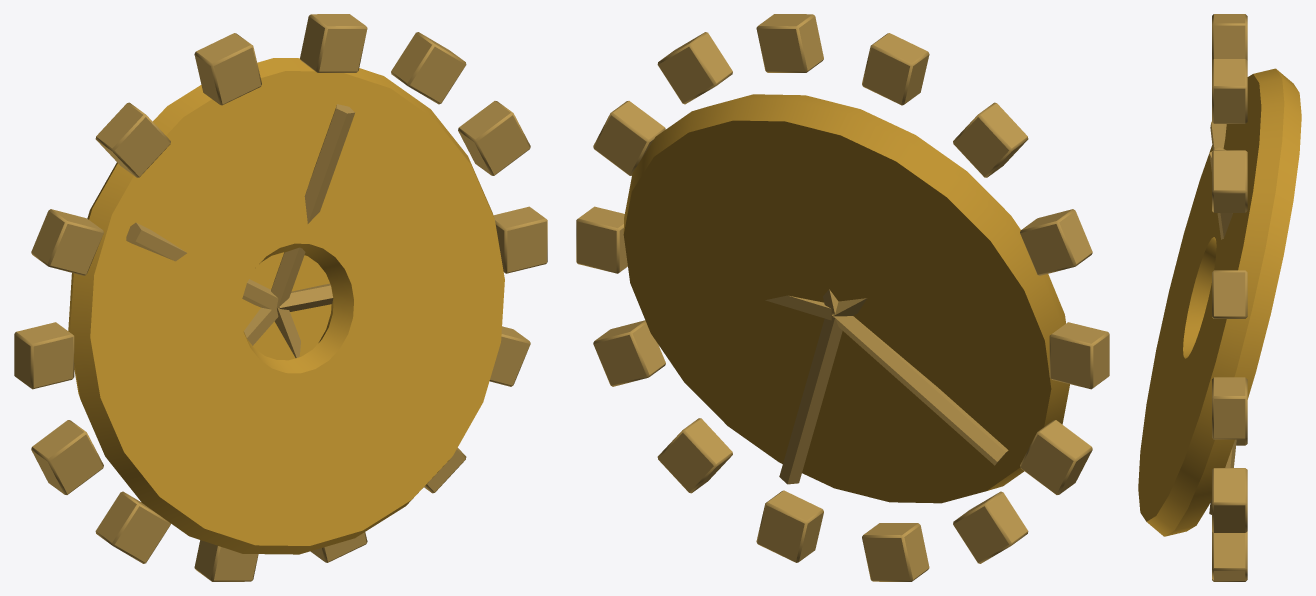
The model's file is clock_gear.glb.
3 views of the same model, side by side, from view 1: azimuth 30°, elevation 25°; view 2: azimuth 150°, elevation 25°; view 3: azimuth 270°, elevation 25° (orthographic). The views are drawn at different scales.
Visible parts, largest first — view 1: clock_gear; view 2: clock_gear; view 3: clock_gear.
Boxes of the visible parts, <box> form: clock_gear: <box>14,14,547,581</box>; clock_gear: <box>576,14,1109,581</box>; clock_gear: <box>1138,14,1301,581</box>.
Bounding box in the file's own units: 5.46 × 5.42 × 1.56.
